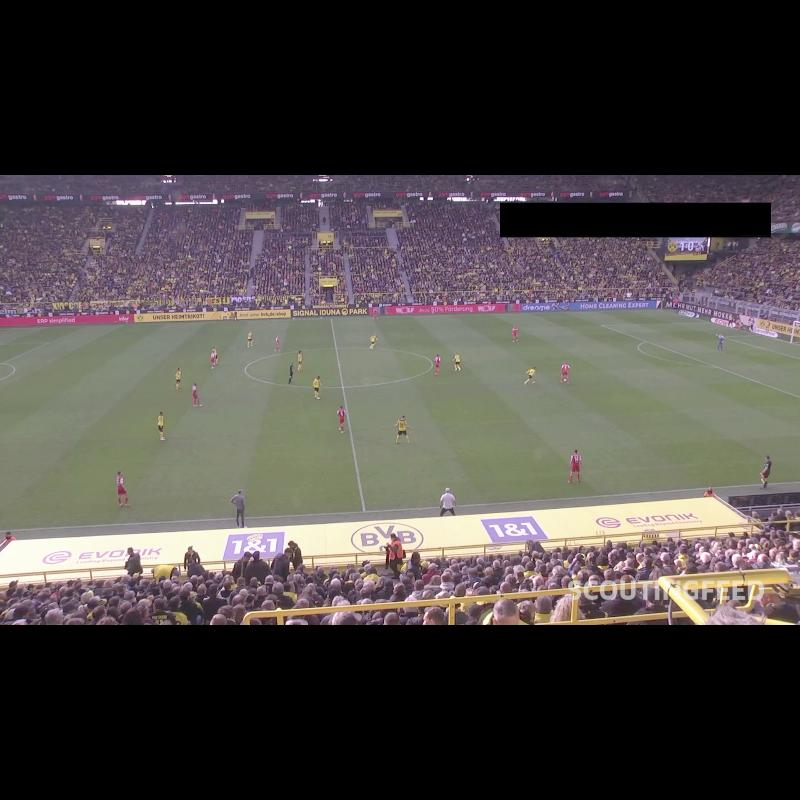cross_recipient_zone: (601, 322, 800, 397), (0, 343, 49, 365)
crossing_player_zone: (515, 310, 709, 326), (0, 325, 142, 343), (752, 420, 800, 456)
pitch: (0, 309, 800, 531)
